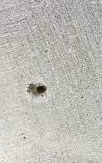Spalling: (26, 82, 48, 99)
